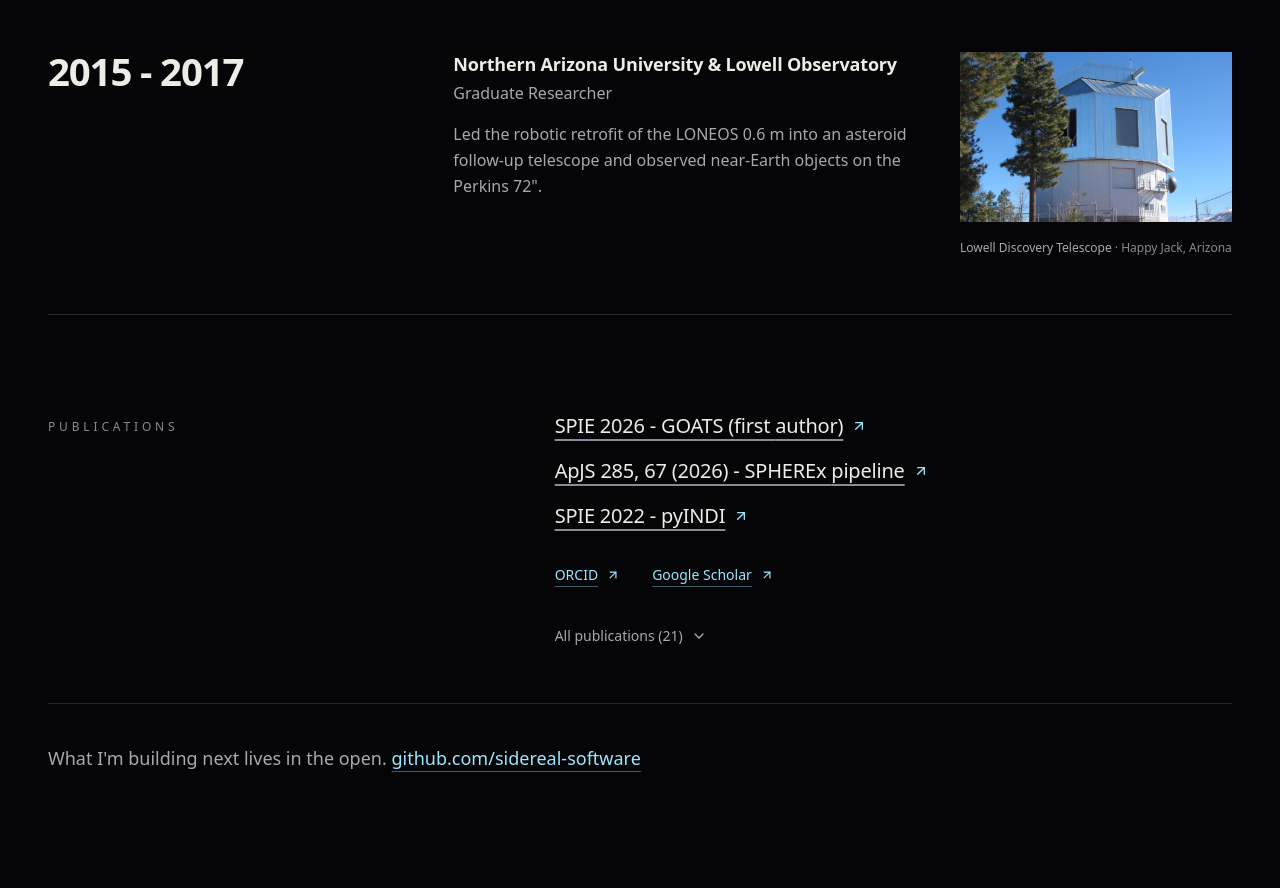
Work publications › expands a full list holding ORCID works and featured papers ORCID lacks
(page scrolled)
Click the button "All publications (21)" at (631,636), box [555,626,707,646]
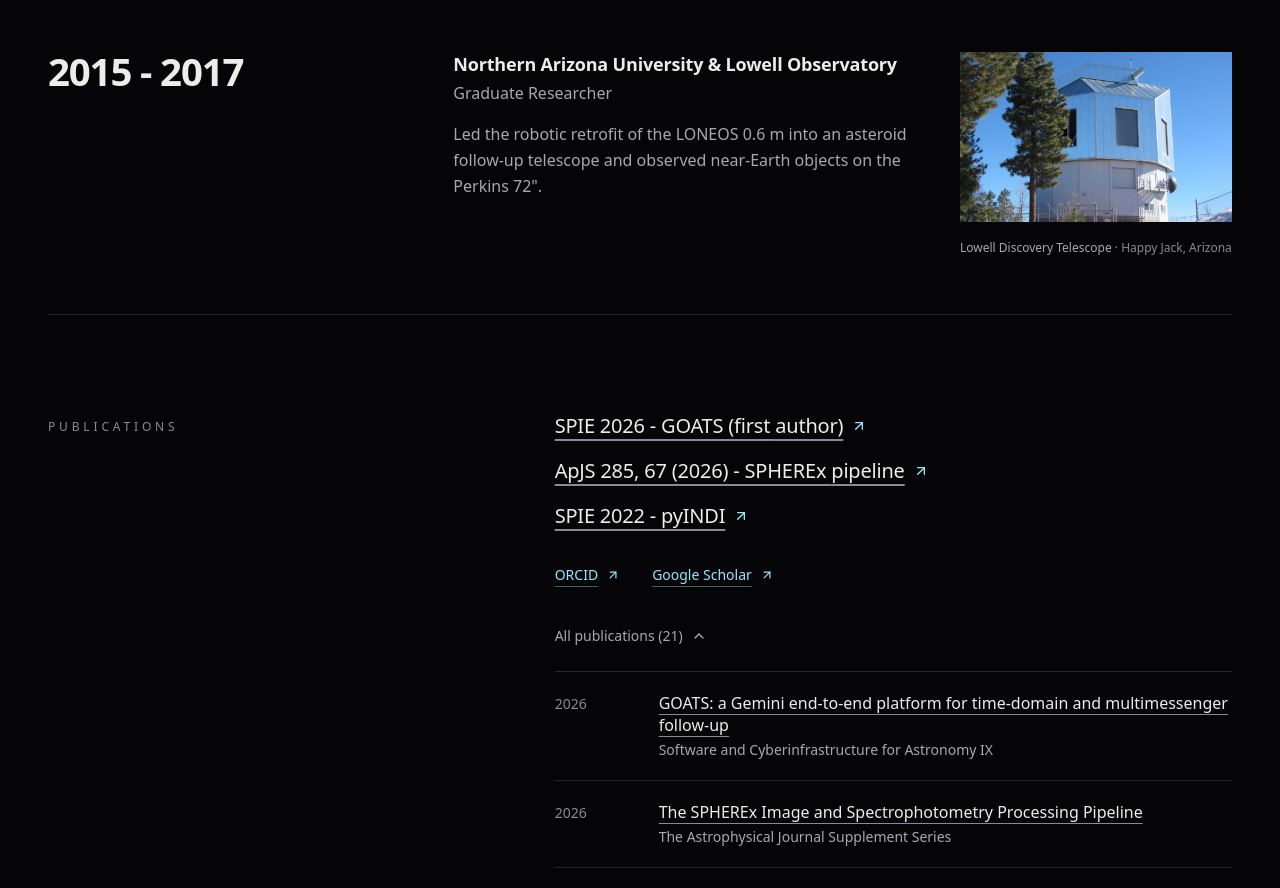
Result: the button "All publications (21)" is expanded at [555,626,707,646]
Result: the number of links "GOATS: a Gemini end-to-end platform for time-domain and multimessenger follow-up" is 1 at [659,692,1228,736]
Result: the link "The SPHEREx Image and Spectrophotometry Processing Pipeline" is shown at [659,801,1143,823]
